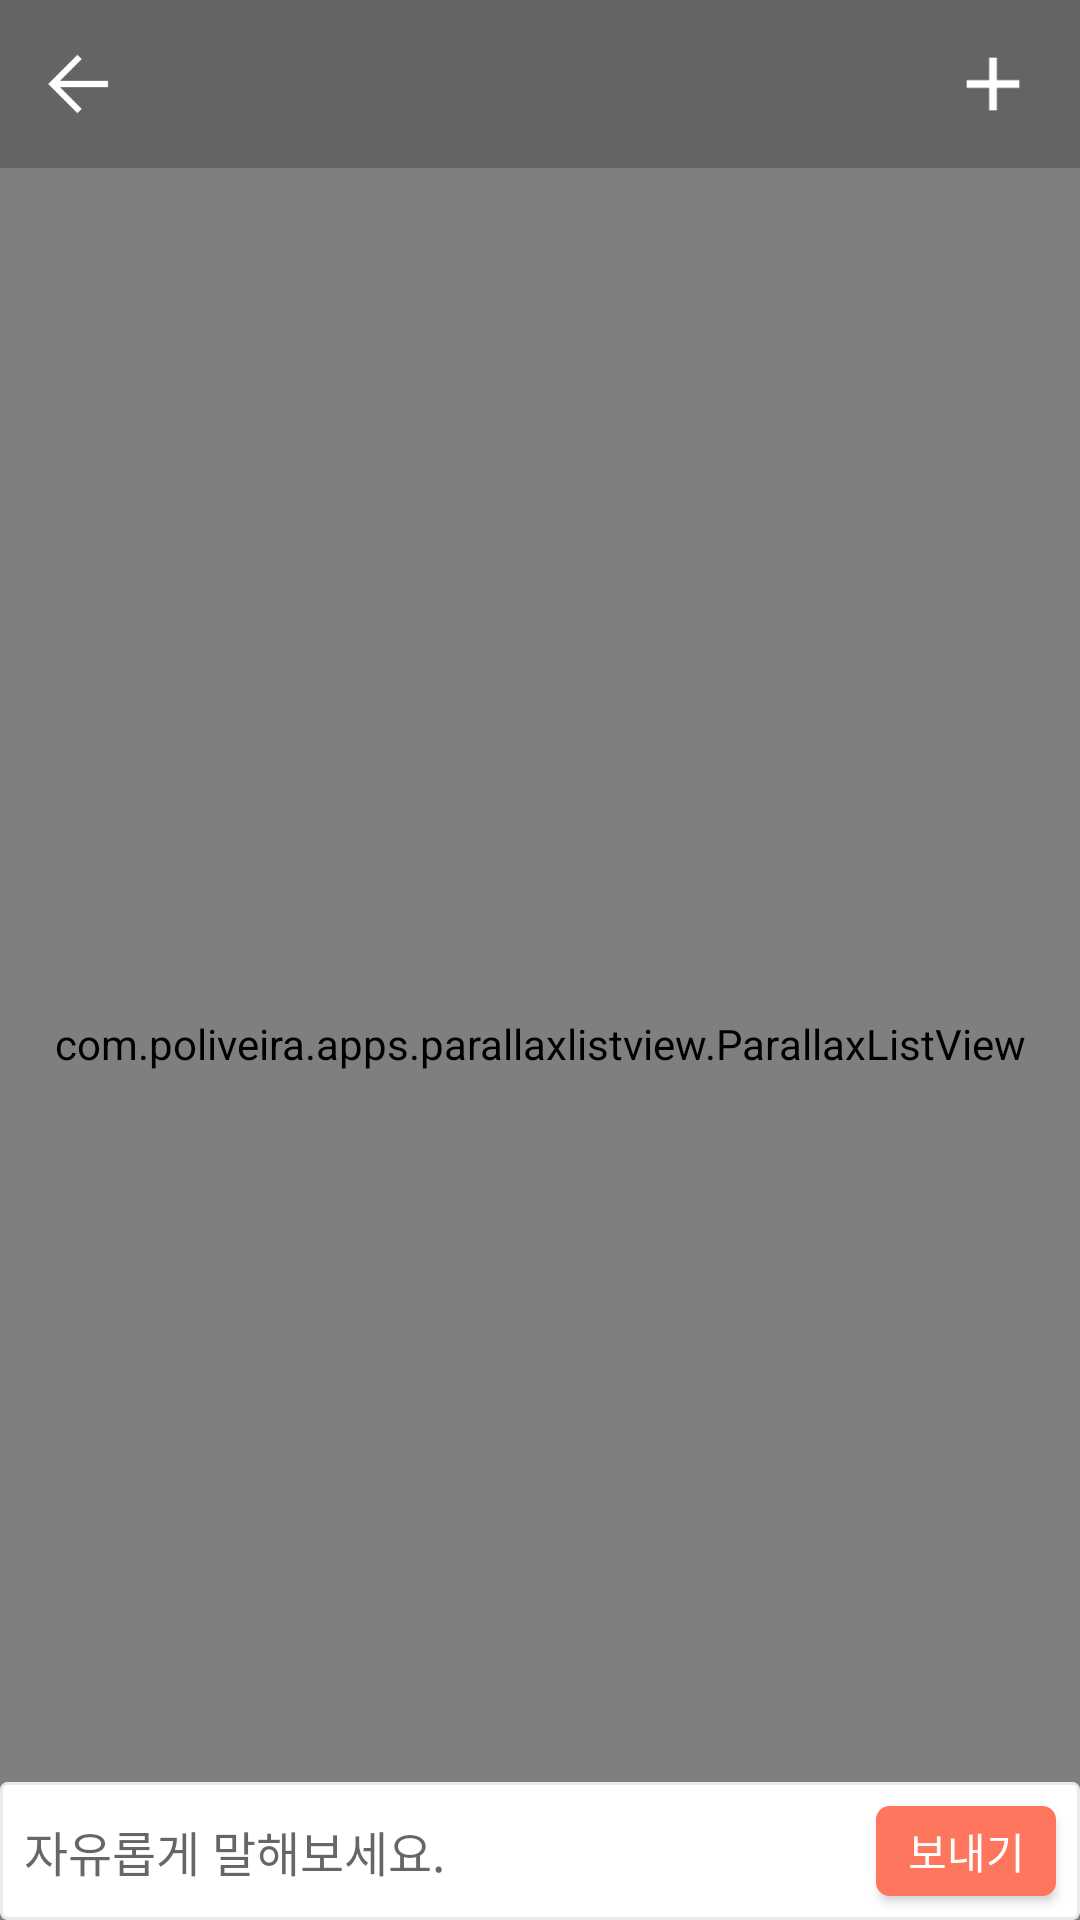

Where icons sit on this 1080w x 1920h app screen, as box=[x1, y1, x2, y2]:
back: box=[48, 55, 108, 113]
plus: box=[966, 57, 1020, 111]
